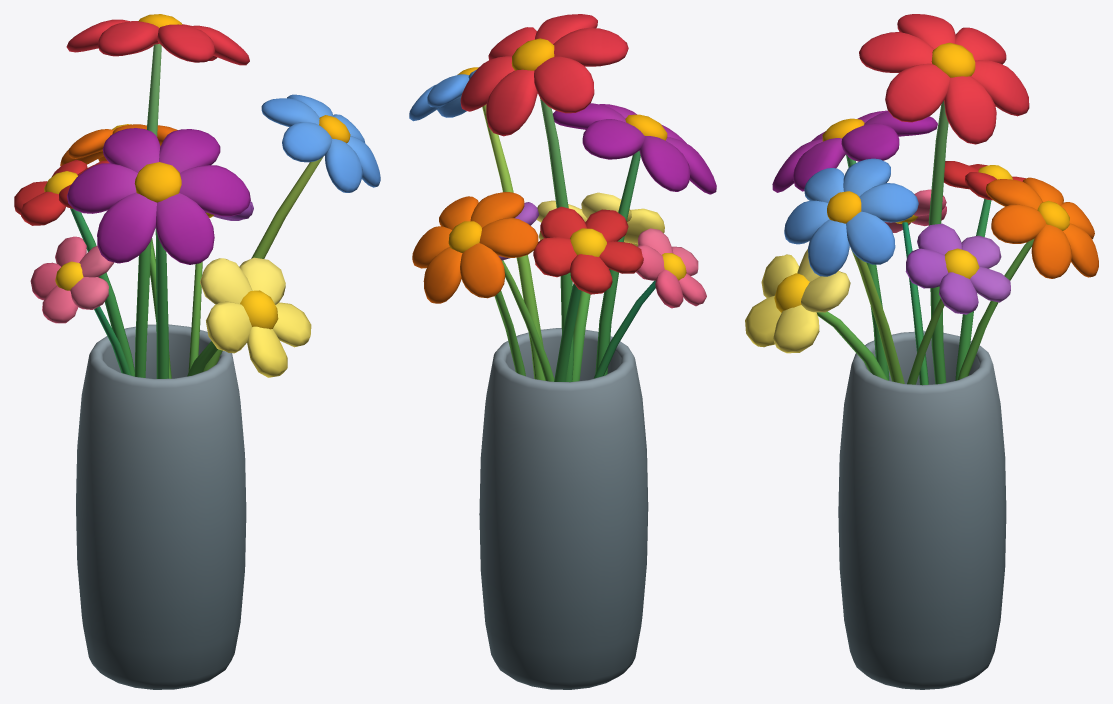
The model's file is Plants_07.glb.
3 views of the same model, side by side, from view 1: azimuth 30°, elevation 25°; view 2: azimuth 150°, elevation 25°; view 3: azimuth 270°, elevation 25° (orthographic). The views are drawn at different scales.
Parts seen in each view (by area): view 1: Plants_07; view 2: Plants_07; view 3: Plants_07.
Boxes of the visible parts, x1=… form: Plants_07: x1=14, y1=14, x2=380, y2=689; Plants_07: x1=409, y1=14, x2=716, y2=689; Plants_07: x1=745, y1=14, x2=1098, y2=689.
Size of the model in its own units: 0.4157 by 0.8385 by 0.4252.
2 materials, 2 textured.
